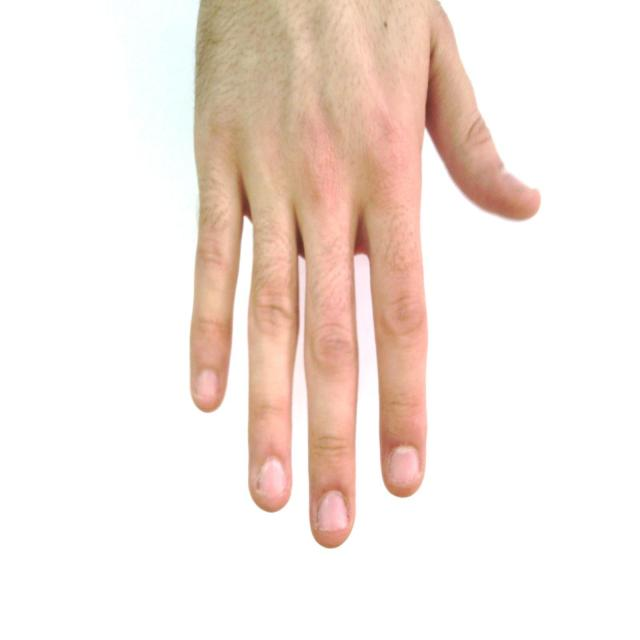others: (182, 1, 552, 563)
